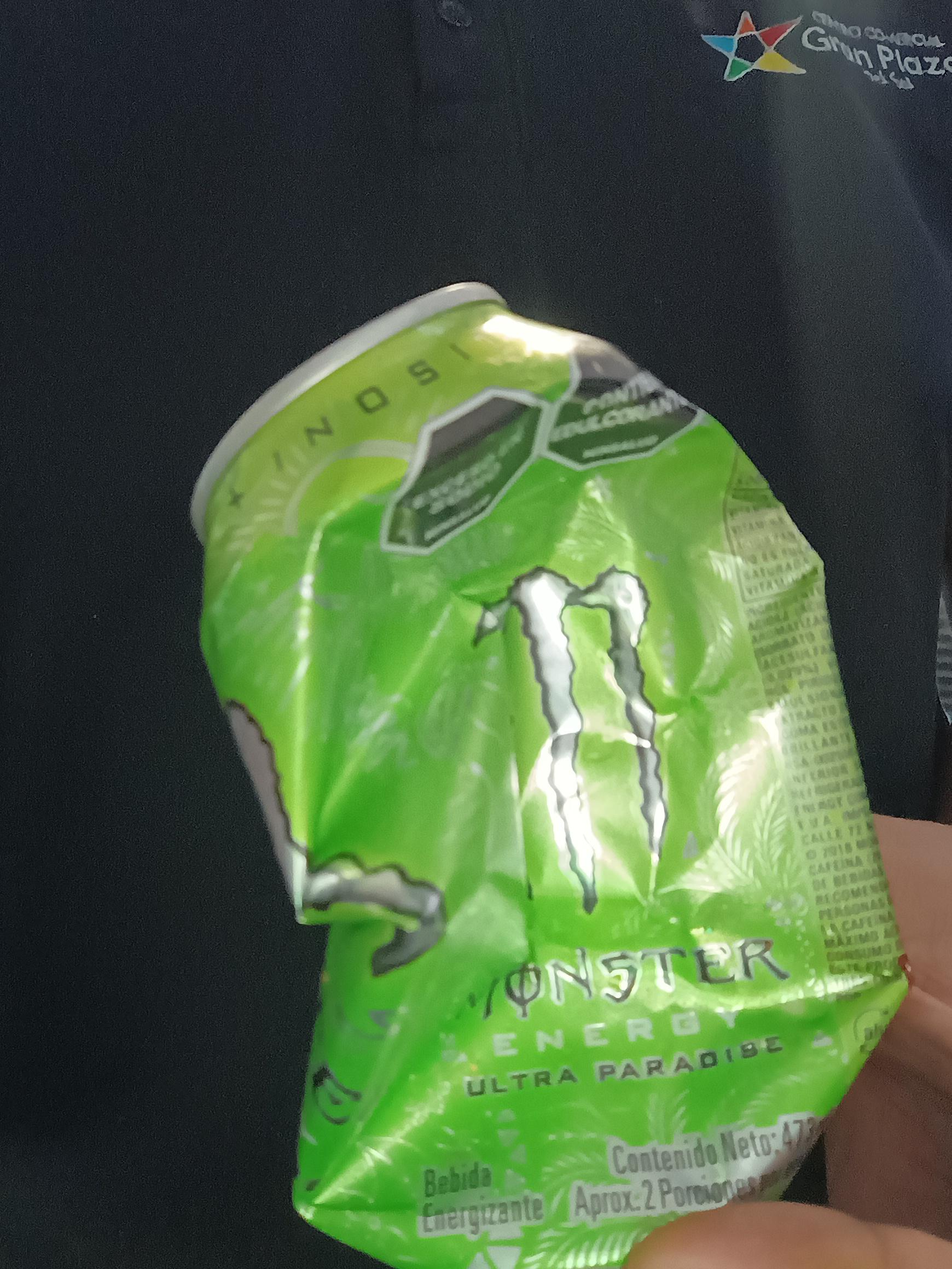Metal: (189, 281, 917, 1269)
